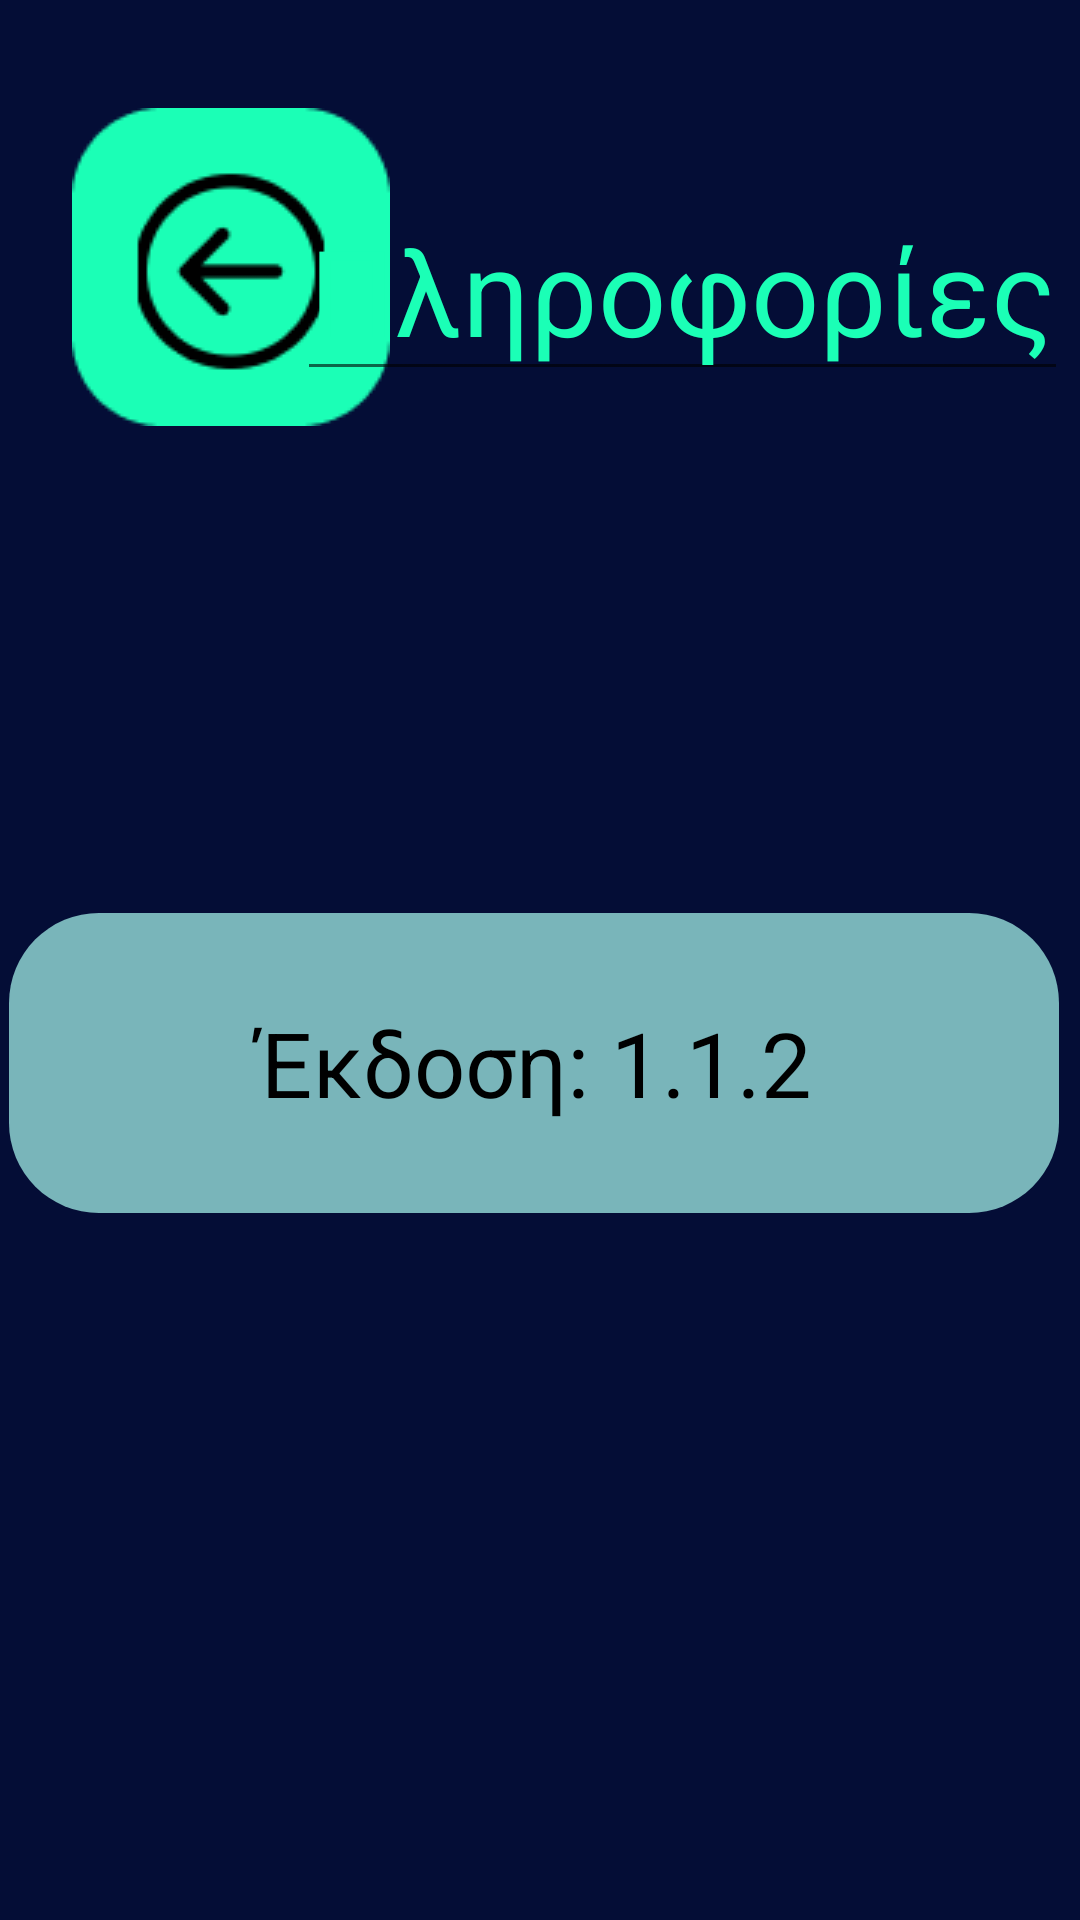

Where icons sit on this 1080px×1920px app screen, as (x1, y1, x2, y2):
back: (72, 108, 390, 426)
